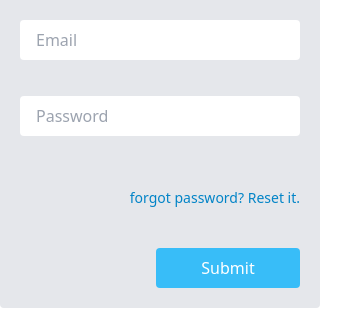
Should render errors on login failed - Integration
This screenshot has width=337, height=325.
Step 1. Type "mykejnr4@ma.com" into the field with placeholder "Email" → {"x": 160, "y": 40}, box [20,20,300,60]
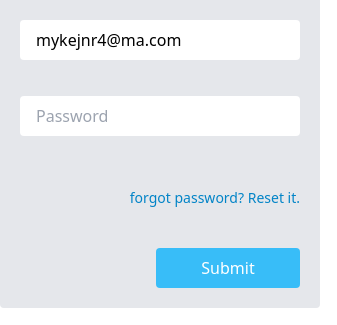
Step 2. Type "PasW$ed" into the password field with placeholder "Password" → {"x": 160, "y": 116}, box [20,96,300,136]
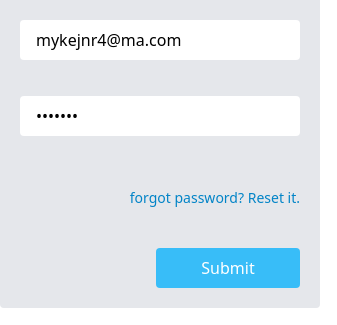
Step 3. Click the button with test id "genform-submit" → {"x": 228, "y": 268}, box [156,248,300,288]
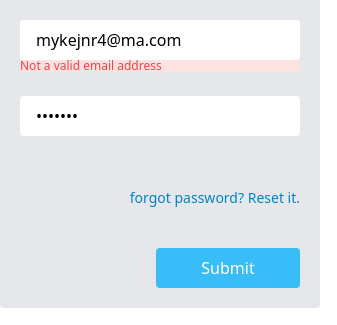
Expected: the text "Not a valid email address" is shown, [20,60,300,72]
